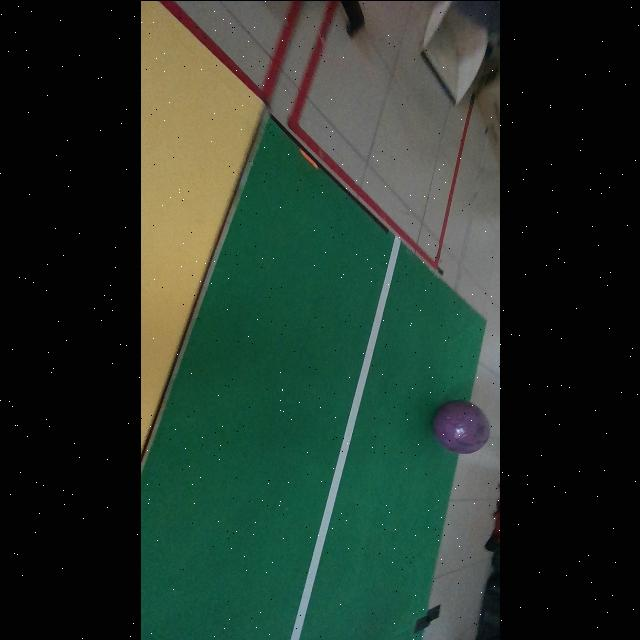P: (434, 400, 489, 454)
